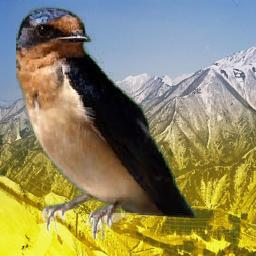Swallow: (17, 5, 198, 239)
